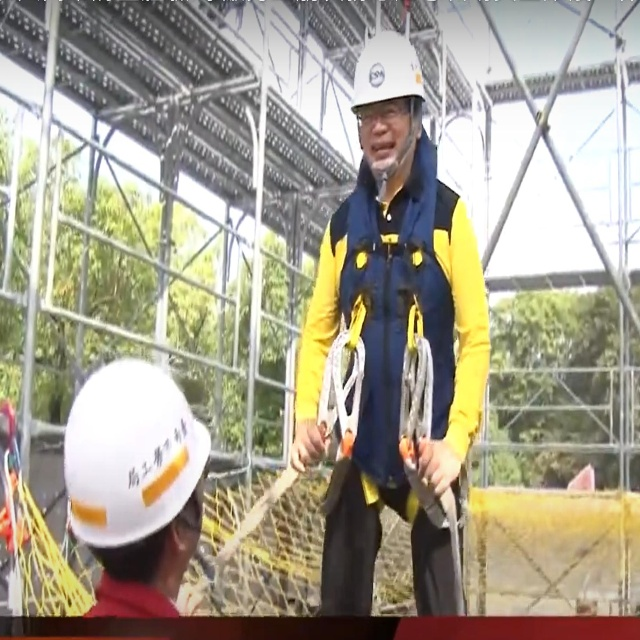Arnes_seguridad: (321, 129, 461, 541)
